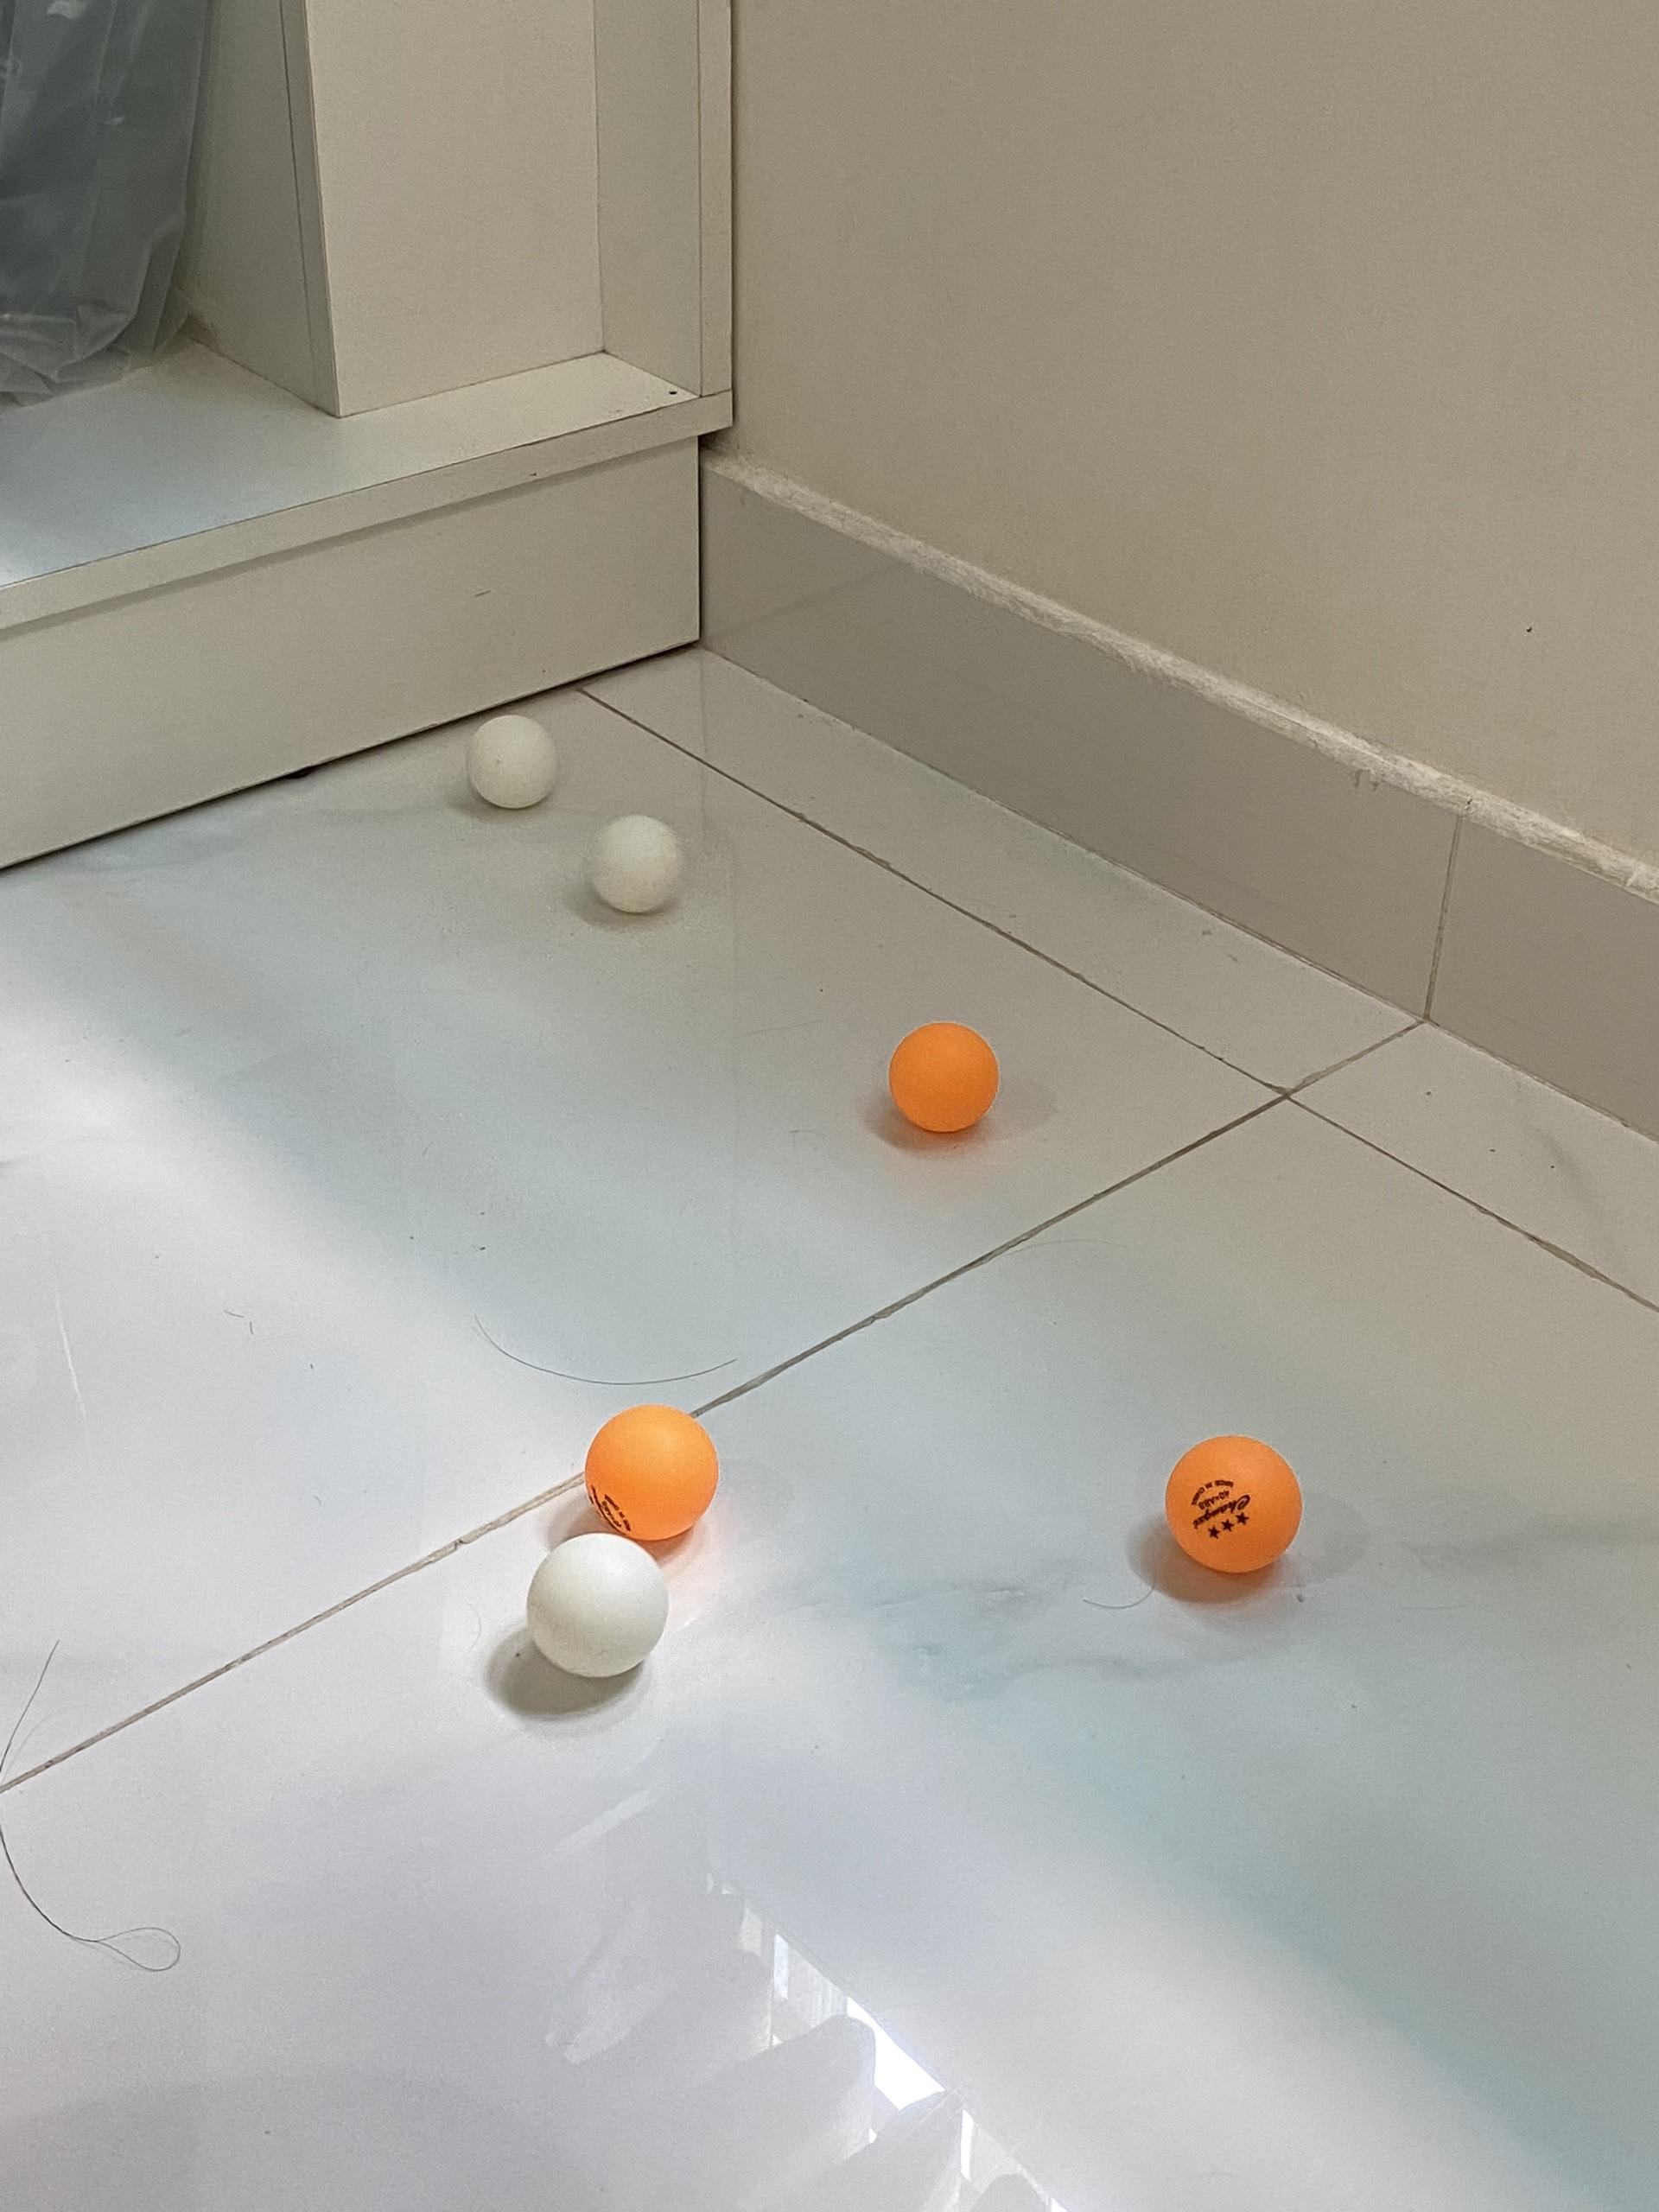oball: (1166, 1432, 1307, 1576), (586, 1400, 720, 1543), (892, 1019, 1000, 1129)
